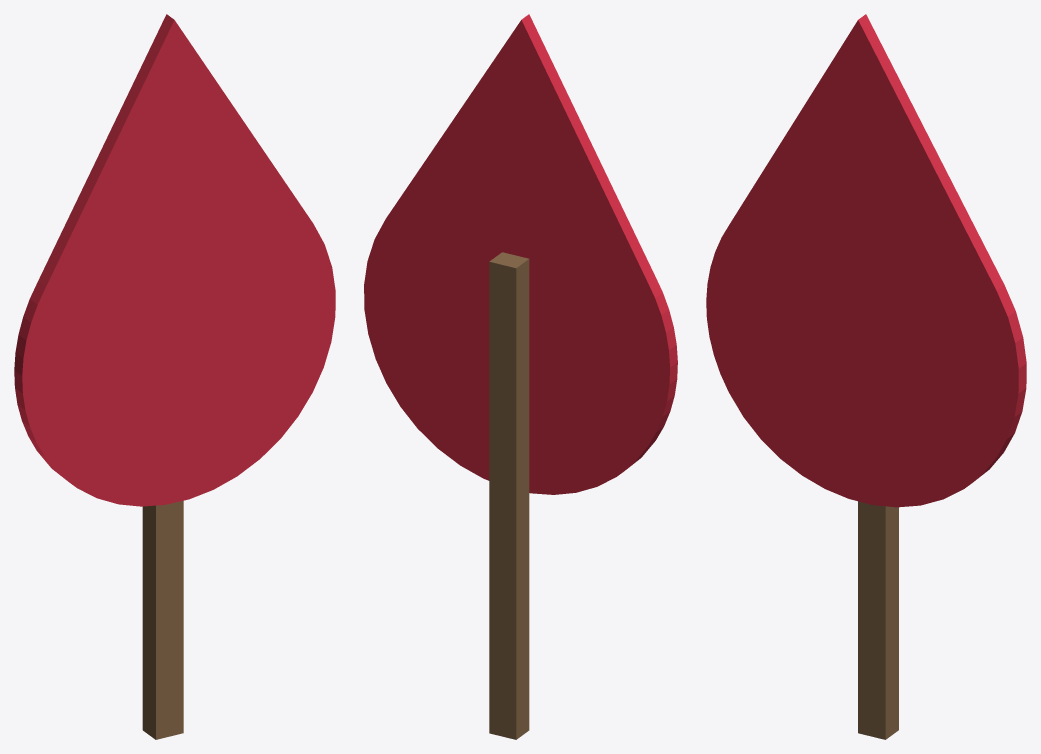
File: sang.glb
3 views of the same model, side by side, from view 1: azimuth 30°, elevation 25°; view 2: azimuth 150°, elevation 25°; view 3: azimuth 330°, elevation 25° (orthographic). The views are drawn at different scales.
Size of the model in its own units: 0.679 by 1.5 by 0.085.
